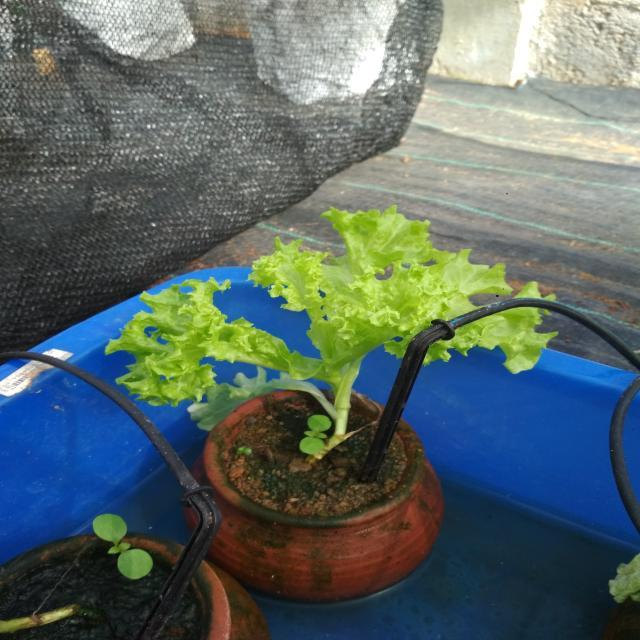Lettuce-Not-Ready-to-Harvest: (106, 206, 511, 458), (430, 310, 554, 372)
